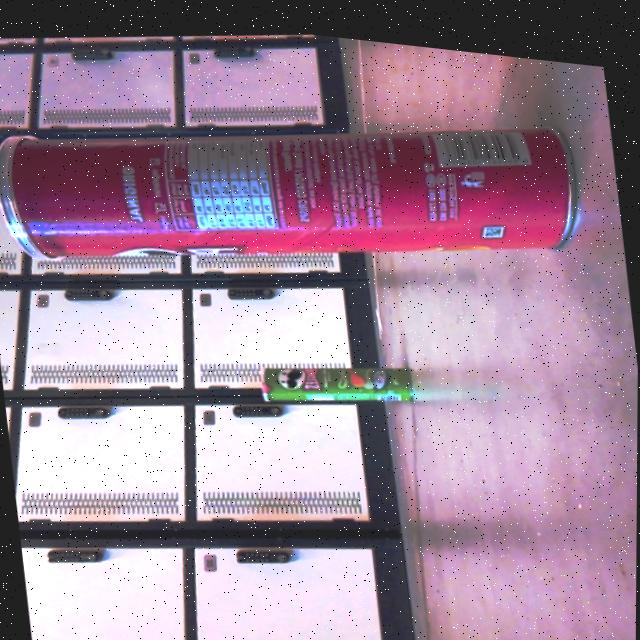greenpringles: (239, 322, 430, 425)
redpringles: (0, 42, 586, 310)
